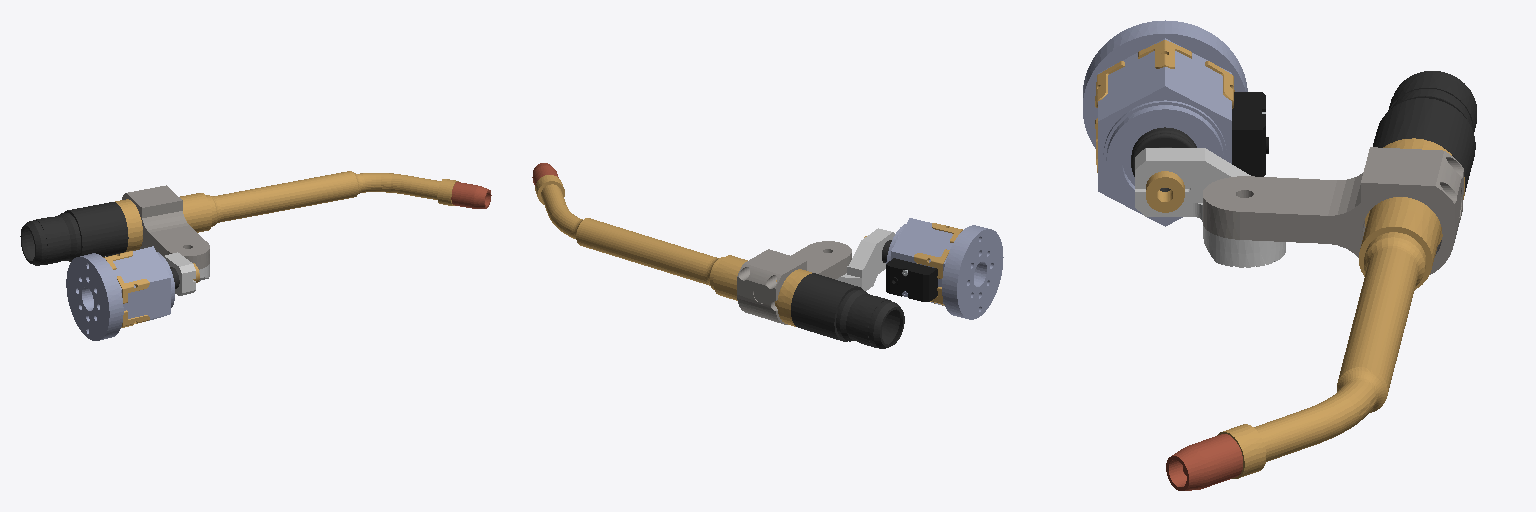
--- Render facts (derived) ---
The picture shows the robot from 3 angles, left to right: view 1: azimuth 30°, elevation 25°; view 2: azimuth 150°, elevation 25°; view 3: azimuth 270°, elevation 25°; orthographic projection.
Model robot with 14 links and 13 joints (6 revolute, 7 fixed), rooted at base_link, posed all joints at 0.
Visible links, largest first — view 1: root, ee_joint_arm, nozzle_tip; view 2: root, ee_joint_arm; view 3: root, ee_joint_arm, nozzle_tip.
Boxes of the visible links, left/top/right/bottom form: root: left=20, top=171, right=458, bottom=327; ee_joint_arm: left=66, top=253, right=123, bottom=340; nozzle_tip: left=451, top=182, right=491, bottom=208; root: left=535, top=175, right=962, bottom=348; ee_joint_arm: left=942, top=225, right=1003, bottom=319; root: left=1095, top=38, right=1476, bottom=478; ee_joint_arm: left=1083, top=20, right=1247, bottom=148; nozzle_tip: left=1166, top=434, right=1242, bottom=490.
Size in the robot's own frame: 0.8374 by 0.3655 by 0.153 metres.
Meshes: 37 distinct files referenced, 28 mesh visuals loaded (28 binary STL); not drawn: 9 (reference not matched to a file when rendering).

The robot description file, URDF, robot "robot":
<robot name="">
	<link name="base_link">
		<inertial>
			<origin rpy="0.00000 -0.00000 0.00000" xyz="0.00000 0.00000 0.00000" />
			<mass value="1.00000" />
			<inertia ixx="0.05644" ixy="0" ixz="0" iyy="0.09146" iyz="0" izz="0.13601" />
		</inertial>
		<visual>
			<origin rpy="0.00000 -0.00000 0.00000" xyz="0.00000 0.00000 0.00000" />
			<geometry>
				<mesh filename="rlbotics/envs/models/robots/abb/irb6600/meshes/irb6640/visual/base_link.stl" scale="1.00000 1.00000 1.00000" />
			</geometry>
			<material name="0">
				<color rgba="0.19608 0.18824 0.18824 1.00000" />
			</material>
		</visual>
		<collision>
			<origin rpy="0.00000 -0.00000 0.00000" xyz="0.00000 0.00000 0.00000" />
			<geometry>
				<mesh filename="rlbotics/envs/models/robots/abb/irb6600/meshes/irb6640/collision/base_link.stl" scale="1.00000 1.00000 1.00000" />
			</geometry>
		</collision>
	</link>
	<link name="link_1">
		<inertial>
			<origin rpy="0.00000 -0.00000 0.00000" xyz="0.00000 0.00000 0.00000" />
			<mass value="1.00000" />
			<inertia ixx="0.12168" ixy="0" ixz="0" iyy="0.14154" iyz="0" izz="0.14985" />
		</inertial>
		<visual>
			<origin rpy="0.00000 -0.00000 0.00000" xyz="0.00000 0.00000 0.00000" />
			<geometry>
				<mesh filename="rlbotics/envs/models/robots/abb/irb6600/meshes/irb6640/visual/link_1.stl" scale="1.00000 1.00000 1.00000" />
			</geometry>
			<material name="1">
				<color rgba="1.00000 0.43000 0.00000 1.00000" />
			</material>
		</visual>
		<collision>
			<origin rpy="0.00000 -0.00000 0.00000" xyz="0.00000 0.00000 0.00000" />
			<geometry>
				<mesh filename="rlbotics/envs/models/robots/abb/irb6600/meshes/irb6640/collision/link_1.stl" scale="1.00000 1.00000 1.00000" />
			</geometry>
		</collision>
	</link>
	<link name="link_2">
		<inertial>
			<origin rpy="0.00000 -0.00000 0.00000" xyz="0.00000 0.00000 0.00000" />
			<mass value="1.00000" />
			<inertia ixx="0.19273" ixy="0" ixz="0" iyy="0.19807" iyz="0" izz="0.04231" />
		</inertial>
		<visual>
			<origin rpy="0.00000 -0.00000 0.00000" xyz="0.00000 0.00000 0.00000" />
			<geometry>
				<mesh filename="rlbotics/envs/models/robots/abb/irb6600/meshes/irb6640/visual/link_2.stl" scale="1.00000 1.00000 1.00000" />
			</geometry>
			<material name="2">
				<color rgba="1.00000 0.43000 0.00000 1.00000" />
			</material>
		</visual>
		<collision>
			<origin rpy="0.00000 -0.00000 0.00000" xyz="0.00000 0.00000 0.00000" />
			<geometry>
				<mesh filename="rlbotics/envs/models/robots/abb/irb6600/meshes/irb6640/collision/link_2.stl" scale="1.00000 1.00000 1.00000" />
			</geometry>
		</collision>
	</link>
	<link name="link_3">
		<inertial>
			<origin rpy="0.00000 -0.00000 0.00000" xyz="0.00000 0.00000 0.00000" />
			<mass value="1.00000" />
			<inertia ixx="0.05700" ixy="0" ixz="0" iyy="0.05147" iyz="0" izz="0.05016" />
		</inertial>
		<visual>
			<origin rpy="0.00000 -0.00000 0.00000" xyz="0.00000 0.00000 0.00000" />
			<geometry>
				<mesh filename="rlbotics/envs/models/robots/abb/irb6600/meshes/irb6640/visual/link_3.stl" scale="1.00000 1.00000 1.00000" />
			</geometry>
			<material name="3">
				<color rgba="1.00000 0.43000 0.00000 1.00000" />
			</material>
		</visual>
		<collision>
			<origin rpy="0.00000 -0.00000 0.00000" xyz="0.00000 0.00000 0.00000" />
			<geometry>
				<mesh filename="rlbotics/envs/models/robots/abb/irb6600/meshes/irb6640/collision/link_3.stl" scale="1.00000 1.00000 1.00000" />
			</geometry>
		</collision>
	</link>
	<link name="link_4">
		<inertial>
			<origin rpy="0.00000 -0.00000 0.00000" xyz="0.00000 0.00000 0.00000" />
			<mass value="1.00000" />
			<inertia ixx="0.01678" ixy="0" ixz="0" iyy="0.27861" iyz="0" izz="0.28296" />
		</inertial>
		<visual>
			<origin rpy="0.00000 -0.00000 0.00000" xyz="0.00000 0.00000 0.00000" />
			<geometry>
				<mesh filename="rlbotics/envs/models/robots/abb/irb6600/meshes/irb6640/visual/link_4.stl" scale="1.00000 1.00000 1.00000" />
			</geometry>
			<material name="4">
				<color rgba="1.00000 0.43000 0.00000 1.00000" />
			</material>
		</visual>
		<collision>
			<origin rpy="0.00000 -0.00000 0.00000" xyz="0.00000 0.00000 0.00000" />
			<geometry>
				<mesh filename="rlbotics/envs/models/robots/abb/irb6600/meshes/irb6640/collision/link_4.stl" scale="1.00000 1.00000 1.00000" />
			</geometry>
		</collision>
	</link>
	<link name="link_5">
		<inertial>
			<origin rpy="0.00000 -0.00000 0.00000" xyz="0.00000 0.00000 0.00000" />
			<mass value="1.00000" />
			<inertia ixx="0.00698" ixy="0" ixz="0" iyy="0.01161" iyz="0" izz="0.01117" />
		</inertial>
		<visual>
			<origin rpy="0.00000 -0.00000 0.00000" xyz="0.00000 0.00000 0.00000" />
			<geometry>
				<mesh filename="rlbotics/envs/models/robots/abb/irb6600/meshes/irb6640/visual/link_5.stl" scale="1.00000 1.00000 1.00000" />
			</geometry>
			<material name="5">
				<color rgba="0.75294 0.75294 0.75294 1.00000" />
			</material>
		</visual>
		<collision>
			<origin rpy="0.00000 -0.00000 0.00000" xyz="0.00000 0.00000 0.00000" />
			<geometry>
				<mesh filename="rlbotics/envs/models/robots/abb/irb6600/meshes/irb6640/collision/link_5.stl" scale="1.00000 1.00000 1.00000" />
			</geometry>
		</collision>
	</link>
	<link name="link_6">
		<inertial>
			<origin rpy="0.00000 -0.00000 0.00000" xyz="0.00000 0.00000 0.00000" />
			<mass value="1.00000" />
			<inertia ixx="0.00719" ixy="0" ixz="0" iyy="0.00381" iyz="0" izz="0.00369" />
		</inertial>
		<visual>
			<origin rpy="0.00000 -0.00000 0.00000" xyz="0.00000 0.00000 0.00000" />
			<geometry>
				<mesh filename="rlbotics/envs/models/robots/abb/irb6600/meshes/irb6640/visual/link_6.stl" scale="1.00000 1.00000 1.00000" />
			</geometry>
			<material name="6">
				<color rgba="0.75294 0.75294 0.75294 1.00000" />
			</material>
		</visual>
		<collision>
			<origin rpy="0.00000 -0.00000 0.00000" xyz="0.00000 0.00000 0.00000" />
			<geometry>
				<mesh filename="rlbotics/envs/models/robots/abb/irb6600/meshes/irb6640/collision/link_6.stl" scale="1.00000 1.00000 1.00000" />
			</geometry>
		</collision>
	</link>
	<link name="tool0">
		<inertial>
			<origin rpy="0.00000 -0.00000 0.00000" xyz="0.00000 0.00000 0.00000" />
			<mass value="1.00000" />
			<inertia ixx="0.00000" ixy="0" ixz="0" iyy="0.00000" iyz="0" izz="0.00000" />
		</inertial>
	</link>
	<link name="link_cylinder">
		<inertial>
			<origin rpy="0.00000 -0.00000 0.00000" xyz="0.00000 0.00000 0.00000" />
			<mass value="1.00000" />
			<inertia ixx="0.03211" ixy="0" ixz="0" iyy="0.04966" iyz="0" izz="0.04355" />
		</inertial>
		<visual>
			<origin rpy="0.00000 -0.00000 0.00000" xyz="0.00000 0.00000 0.00000" />
			<geometry>
				<mesh filename="rlbotics/envs/models/robots/abb/irb6600/meshes/irb6640/visual/cylinder.stl" scale="1.00000 1.00000 1.00000" />
			</geometry>
			<material name="7">
				<color rgba="1.00000 0.43000 0.00000 1.00000" />
			</material>
		</visual>
		<collision>
			<origin rpy="0.00000 -0.00000 0.00000" xyz="0.00000 0.00000 0.00000" />
			<geometry>
				<mesh filename="rlbotics/envs/models/robots/abb/irb6600/meshes/irb6640/collision/cylinder.stl" scale="1.00000 1.00000 1.00000" />
			</geometry>
		</collision>
	</link>
	<link name="link_piston">
		<inertial>
			<origin rpy="0.00000 -0.00000 0.00000" xyz="0.00000 0.00000 0.00000" />
			<mass value="1.00000" />
			<inertia ixx="0.00136" ixy="0" ixz="0" iyy="0.03609" iyz="0" izz="0.03664" />
		</inertial>
		<visual>
			<origin rpy="0.00000 -0.00000 0.00000" xyz="0.00000 0.00000 0.00000" />
			<geometry>
				<mesh filename="rlbotics/envs/models/robots/abb/irb6600/meshes/irb6640/visual/piston.stl" scale="1.00000 1.00000 1.00000" />
			</geometry>
			<material name="8">
				<color rgba="0.75294 0.75294 0.75294 1.00000" />
			</material>
		</visual>
		<collision>
			<origin rpy="0.00000 -0.00000 0.00000" xyz="0.00000 0.00000 0.00000" />
			<geometry>
				<mesh filename="rlbotics/envs/models/robots/abb/irb6600/meshes/irb6640/collision/piston.stl" scale="1.00000 1.00000 1.00000" />
			</geometry>
		</collision>
	</link>
	<link name="base">
		<inertial>
			<origin rpy="0.00000 -0.00000 0.00000" xyz="0.00000 0.00000 0.00000" />
			<mass value="1.00000" />
			<inertia ixx="0.00000" ixy="0" ixz="0" iyy="0.00000" iyz="0" izz="0.00000" />
		</inertial>
	</link>
	<link name="root">
		<inertial>
			<origin rpy="0.00000 -0.00000 0.00000" xyz="-0.01448 -0.00427 0.02204" />
			<mass value="10.00000" />
			<inertia ixx="0.62536" ixy="0" ixz="0" iyy="0.53801" iyz="0" izz="0.12460" />
		</inertial>
		<visual>
			<origin rpy="0.00000 -0.00000 0.00000" xyz="-0.02792 -0.00816 0.04271" />
			<geometry>
				<mesh filename="rlbotics/envs/models/end_effectors/welding/welding_torch/meshes/stl/Body1.stl" scale="0.01913 0.01913 0.01913" />
			</geometry>
			<material name="9">
				<color rgba="0.80000 0.80000 0.80000 1.00000" />
			</material>
		</visual>
		<visual>
			<origin rpy="0.00000 -0.00000 0.00000" xyz="-0.02792 -0.00816 0.04271" />
			<geometry>
				<mesh filename="rlbotics/envs/models/end_effectors/welding/welding_torch/meshes/stl/Body10.stl" scale="0.01913 0.01913 0.01913" />
			</geometry>
			<material name="10">
				<color rgba="0.80000 0.64627 0.39843 1.00000" />
			</material>
		</visual>
		<visual>
			<origin rpy="0.00000 -0.00000 0.00000" xyz="-0.02792 -0.00816 0.04271" />
			<geometry>
				<mesh filename="rlbotics/envs/models/end_effectors/welding/welding_torch/meshes/stl/Body11.stl" scale="0.01913 0.01913 0.01913" />
			</geometry>
			<material name="11">
				<color rgba="0.80000 0.64627 0.39843 1.00000" />
			</material>
		</visual>
		<visual>
			<origin rpy="0.00000 -0.00000 0.00000" xyz="-0.02792 -0.00816 0.04271" />
			<geometry>
				<mesh filename="rlbotics/envs/models/end_effectors/welding/welding_torch/meshes/stl/Body12.stl" scale="0.01913 0.01913 0.01913" />
			</geometry>
			<material name="12">
				<color rgba="0.63373 0.65569 0.74667 1.00000" />
			</material>
		</visual>
		<visual>
			<origin rpy="0.00000 -0.00000 0.00000" xyz="-0.02792 -0.00816 0.04271" />
			<geometry>
				<mesh filename="rlbotics/envs/models/end_effectors/welding/welding_torch/meshes/stl/Body13.stl" scale="0.01913 0.01913 0.01913" />
			</geometry>
			<material name="13">
				<color rgba="0.71843 0.73412 0.74353 1.00000" />
			</material>
		</visual>
		<visual>
			<origin rpy="0.00000 -0.00000 0.00000" xyz="-0.02792 -0.00816 0.04271" />
			<geometry>
				<mesh filename="rlbotics/envs/models/end_effectors/welding/welding_torch/meshes/stl/Body14.stl" scale="0.01913 0.01913 0.01913" />
			</geometry>
			<material name="14">
				<color rgba="0.63373 0.65569 0.74667 1.00000" />
			</material>
		</visual>
		<visual>
			<origin rpy="0.00000 -0.00000 0.00000" xyz="-0.02792 -0.00816 0.04271" />
			<geometry>
				<mesh filename="rlbotics/envs/models/end_effectors/welding/welding_torch/meshes/stl/Body15.stl" scale="0.01913 0.01913 0.01913" />
			</geometry>
			<material name="15">
				<color rgba="0.80000 0.64627 0.39843 1.00000" />
			</material>
		</visual>
		<visual>
			<origin rpy="0.00000 -0.00000 0.00000" xyz="-0.02792 -0.00816 0.04271" />
			<geometry>
				<mesh filename="rlbotics/envs/models/end_effectors/welding/welding_torch/meshes/stl/Body16.stl" scale="0.01913 0.01913 0.01913" />
			</geometry>
			<material name="16">
				<color rgba="0.63373 0.65569 0.74667 1.00000" />
			</material>
		</visual>
		<visual>
			<origin rpy="0.00000 -0.00000 0.00000" xyz="-0.02792 -0.00816 0.04271" />
			<geometry>
				<mesh filename="rlbotics/envs/models/end_effectors/welding/welding_torch/meshes/stl/Body17.stl" scale="0.01913 0.01913 0.01913" />
			</geometry>
			<material name="17">
				<color rgba="0.63373 0.65569 0.74667 1.00000" />
			</material>
		</visual>
		<visual>
			<origin rpy="0.00000 -0.00000 0.00000" xyz="-0.02792 -0.00816 0.04271" />
			<geometry>
				<mesh filename="rlbotics/envs/models/end_effectors/welding/welding_torch/meshes/stl/Body18.stl" scale="0.01913 0.01913 0.01913" />
			</geometry>
			<material name="18">
				<color rgba="0.63373 0.65569 0.74667 1.00000" />
			</material>
		</visual>
		<visual>
			<origin rpy="0.00000 -0.00000 0.00000" xyz="-0.02792 -0.00816 0.04271" />
			<geometry>
				<mesh filename="rlbotics/envs/models/end_effectors/welding/welding_torch/meshes/stl/Body19.stl" scale="0.01913 0.01913 0.01913" />
			</geometry>
			<material name="19">
				<color rgba="0.63373 0.65569 0.74667 1.00000" />
			</material>
		</visual>
		<visual>
			<origin rpy="0.00000 -0.00000 0.00000" xyz="-0.02792 -0.00816 0.04271" />
			<geometry>
				<mesh filename="rlbotics/envs/models/end_effectors/welding/welding_torch/meshes/stl/Body2.stl" scale="0.01913 0.01913 0.01913" />
			</geometry>
			<material name="20">
				<color rgba="0.54902 0.48627 0.42353 1.00000" />
			</material>
		</visual>
		<visual>
			<origin rpy="0.00000 -0.00000 0.00000" xyz="-0.02792 -0.00816 0.04271" />
			<geometry>
				<mesh filename="rlbotics/envs/models/end_effectors/welding/welding_torch/meshes/stl/Body20.stl" scale="0.01913 0.01913 0.01913" />
			</geometry>
			<material name="21">
				<color rgba="0.63373 0.65569 0.74667 1.00000" />
			</material>
		</visual>
		<visual>
			<origin rpy="0.00000 -0.00000 0.00000" xyz="-0.02792 -0.00816 0.04271" />
			<geometry>
				<mesh filename="rlbotics/envs/models/end_effectors/welding/welding_torch/meshes/stl/Body21.stl" scale="0.01913 0.01913 0.01913" />
			</geometry>
			<material name="22">
				<color rgba="0.80000 0.64627 0.39843 1.00000" />
			</material>
		</visual>
		<visual>
			<origin rpy="0.00000 -0.00000 0.00000" xyz="-0.02792 -0.00816 0.04271" />
			<geometry>
				<mesh filename="rlbotics/envs/models/end_effectors/welding/welding_torch/meshes/stl/Body23.stl" scale="0.01913 0.01913 0.01913" />
			</geometry>
			<material name="23">
				<color rgba="0.23843 0.23843 0.23843 1.00000" />
			</material>
		</visual>
		<visual>
			<origin rpy="0.00000 -0.00000 0.00000" xyz="-0.02792 -0.00816 0.04271" />
			<geometry>
				<mesh filename="rlbotics/envs/models/end_effectors/welding/welding_torch/meshes/stl/Body24.stl" scale="0.01913 0.01913 0.01913" />
			</geometry>
			<material name="24">
				<color rgba="0.80000 0.64627 0.39843 1.00000" />
			</material>
		</visual>
		<visual>
			<origin rpy="0.00000 -0.00000 0.00000" xyz="-0.02792 -0.00816 0.04271" />
			<geometry>
				<mesh filename="rlbotics/envs/models/end_effectors/welding/welding_torch/meshes/stl/Body25.stl" scale="0.01913 0.01913 0.01913" />
			</geometry>
			<material name="25">
				<color rgba="0.23843 0.23843 0.23843 1.00000" />
			</material>
		</visual>
		<visual>
			<origin rpy="0.00000 -0.00000 0.00000" xyz="-0.02792 -0.00816 0.04271" />
			<geometry>
				<mesh filename="rlbotics/envs/models/end_effectors/welding/welding_torch/meshes/stl/Body26.stl" scale="0.01913 0.01913 0.01913" />
			</geometry>
			<material name="26">
				<color rgba="0.62118 0.55843 0.51137 1.00000" />
			</material>
		</visual>
		<visual>
			<origin rpy="0.00000 -0.00000 0.00000" xyz="-0.02792 -0.00816 0.04271" />
			<geometry>
				<mesh filename="rlbotics/envs/models/end_effectors/welding/welding_torch/meshes/stl/Body27.stl" scale="0.01913 0.01913 0.01913" />
			</geometry>
			<material name="27">
				<color rgba="0.67137 0.37333 0.29490 1.00000" />
			</material>
		</visual>
		<visual>
			<origin rpy="0.00000 -0.00000 0.00000" xyz="-0.02792 -0.00816 0.04271" />
			<geometry>
				<mesh filename="rlbotics/envs/models/end_effectors/welding/welding_torch/meshes/stl/Body3.stl" scale="0.01913 0.01913 0.01913" />
			</geometry>
			<material name="28">
				<color rgba="0.62118 0.60549 0.58980 1.00000" />
			</material>
		</visual>
		<visual>
			<origin rpy="0.00000 -0.00000 0.00000" xyz="-0.02792 -0.00816 0.04271" />
			<geometry>
				<mesh filename="rlbotics/envs/models/end_effectors/welding/welding_torch/meshes/stl/Body4.stl" scale="0.01913 0.01913 0.01913" />
			</geometry>
			<material name="29">
				<color rgba="0.80000 0.62431 0.52706 1.00000" />
			</material>
		</visual>
		<visual>
			<origin rpy="0.00000 -0.00000 0.00000" xyz="-0.02792 -0.00816 0.04271" />
			<geometry>
				<mesh filename="rlbotics/envs/models/end_effectors/welding/welding_torch/meshes/stl/Body5.stl" scale="0.01913 0.01913 0.01913" />
			</geometry>
			<material name="30">
				<color rgba="0.63373 0.65569 0.74667 1.00000" />
			</material>
		</visual>
		<visual>
			<origin rpy="0.00000 -0.00000 0.00000" xyz="-0.02792 -0.00816 0.04271" />
			<geometry>
				<mesh filename="rlbotics/envs/models/end_effectors/welding/welding_torch/meshes/stl/Body6.stl" scale="0.01913 0.01913 0.01913" />
			</geometry>
			<material name="31">
				<color rgba="0.16000 0.16000 0.16000 1.00000" />
			</material>
		</visual>
		<visual>
			<origin rpy="0.00000 -0.00000 0.00000" xyz="-0.02792 -0.00816 0.04271" />
			<geometry>
				<mesh filename="rlbotics/envs/models/end_effectors/welding/welding_torch/meshes/stl/Body7.stl" scale="0.01913 0.01913 0.01913" />
			</geometry>
			<material name="32">
				<color rgba="0.80000 0.64627 0.39843 1.00000" />
			</material>
		</visual>
		<visual>
			<origin rpy="0.00000 -0.00000 0.00000" xyz="-0.02792 -0.00816 0.04271" />
			<geometry>
				<mesh filename="rlbotics/envs/models/end_effectors/welding/welding_torch/meshes/stl/Body8.stl" scale="0.01913 0.01913 0.01913" />
			</geometry>
			<material name="33">
				<color rgba="0.80000 0.64627 0.39843 1.00000" />
			</material>
		</visual>
		<visual>
			<origin rpy="0.00000 -0.00000 0.00000" xyz="-0.02792 -0.00816 0.04271" />
			<geometry>
				<mesh filename="rlbotics/envs/models/end_effectors/welding/welding_torch/meshes/stl/Body9.stl" scale="0.01913 0.01913 0.01913" />
			</geometry>
			<material name="34">
				<color rgba="0.80000 0.64627 0.39843 1.00000" />
			</material>
		</visual>
		<collision>
			<origin rpy="0.00000 -0.00000 0.00000" xyz="-0.02694 -0.00899 0.04304" />
			<geometry>
				<mesh filename="rlbotics/envs/models/end_effectors/welding/welding_torch/meshes/stl/Body1.001.stl" scale="1.91308 1.91308 1.91308" />
			</geometry>
		</collision>
		<collision>
			<origin rpy="0.00000 -0.00000 0.00000" xyz="-0.03031 -0.00834 0.04250" />
			<geometry>
				<mesh filename="rlbotics/envs/models/end_effectors/welding/welding_torch/meshes/stl/Body23.001.stl" scale="1.91308 1.91308 1.91308" />
			</geometry>
		</collision>
		<collision>
			<origin rpy="0.00000 -0.00000 0.00000" xyz="-0.02830 -0.00808 0.04410" />
			<geometry>
				<mesh filename="rlbotics/envs/models/end_effectors/welding/welding_torch/meshes/stl/Body24.001.stl" scale="1.91308 1.91308 1.91308" />
			</geometry>
		</collision>
		<collision>
			<origin rpy="0.00000 -0.00000 0.00000" xyz="-0.02798 -0.00886 0.05092" />
			<geometry>
				<mesh filename="rlbotics/envs/models/end_effectors/welding/welding_torch/meshes/stl/Body25.001.stl" scale="1.91308 1.91308 1.91308" />
			</geometry>
		</collision>
		<collision>
			<origin rpy="0.00000 -0.00000 0.00000" xyz="-0.02695 -0.00714 0.04028" />
			<geometry>
				<mesh filename="rlbotics/envs/models/end_effectors/welding/welding_torch/meshes/stl/Body3.001.stl" scale="1.91308 1.91308 1.91308" />
			</geometry>
		</collision>
		<collision>
			<origin rpy="0.00000 -0.00000 0.00000" xyz="-0.02659 -0.00839 0.04212" />
			<geometry>
				<mesh filename="rlbotics/envs/models/end_effectors/welding/welding_torch/meshes/stl/Body5.001.stl" scale="1.91308 1.91308 1.91308" />
			</geometry>
		</collision>
		<collision>
			<origin rpy="0.00000 -0.00000 0.00000" xyz="-0.02771 -0.00796 0.04287" />
			<geometry>
				<mesh filename="rlbotics/envs/models/end_effectors/welding/welding_torch/meshes/stl/Body6.001.stl" scale="1.91308 1.91308 1.91308" />
			</geometry>
		</collision>
	</link>
	<link name="ee_joint_arm">
		<inertial>
			<origin rpy="0.00000 -0.00000 0.00000" xyz="-0.01458 -0.00585 0.05244" />
			<mass value="2.00000" />
			<inertia ixx="0.00442" ixy="0" ixz="0" iyy="0.00442" iyz="0" izz="0.00843" />
		</inertial>
		<visual>
			<origin rpy="0.00000 -0.00000 0.00000" xyz="-0.02797 -0.01121 0.09982" />
			<geometry>
				<mesh filename="rlbotics/envs/models/end_effectors/welding/welding_torch/meshes/stl/Body22.stl" scale="0.01913 0.01913 0.01913" />
			</geometry>
			<material name="35">
				<color rgba="0.63373 0.65569 0.74667 1.00000" />
			</material>
		</visual>
		<collision>
			<origin rpy="0.00000 -0.00000 0.00000" xyz="-0.02788 -0.01119 0.10032" />
			<geometry>
				<mesh filename="rlbotics/envs/models/end_effectors/welding/welding_torch/meshes/stl/Body22.001.stl" scale="1.91308 1.91308 1.91308" />
			</geometry>
		</collision>
	</link>
	<link name="nozzle_tip">
		<inertial>
			<origin rpy="0.00000 -0.00000 0.00000" xyz="-0.01570 -0.30904 -0.22158" />
			<mass value="2.00000" />
			<inertia ixx="0.00381" ixy="0" ixz="0" iyy="0.00232" iyz="0" izz="0.00228" />
		</inertial>
		<visual>
			<origin rpy="-0.92502 0.00000 0.00000" xyz="-0.02985 -0.59008 -0.41691" />
			<geometry>
				<mesh filename="rlbotics/envs/models/end_effectors/welding/welding_torch/meshes/stl/Body28.stl" scale="0.01913 0.01913 0.01913" />
			</geometry>
			<material name="36">
				<color rgba="0.67137 0.37333 0.29490 1.00000" />
			</material>
		</visual>
		<collision>
			<origin rpy="-0.92502 0.00000 0.00000" xyz="-0.03004 -0.59122 -0.42390" />
			<geometry>
				<mesh filename="rlbotics/envs/models/end_effectors/welding/welding_torch/meshes/stl/Body28.001.stl" scale="1.91308 1.91308 1.91308" />
			</geometry>
		</collision>
	</link>
	<joint name="joint_1" type="revolute">
		<parent link="base_link" />
		<child link="link_1" />
		<dynamics damping="0.0" friction="0.0" />
		<origin rpy="0.00000 -0.00000 0.00000" xyz="0.00000 0.00000 0.22700" />
		<axis xyz="0.00000 0.00000 1.00000" />
	<limit effort="0.0" lower="-2.967" upper="2.967" velocity="1.7453" /></joint>
	<joint name="joint_2" type="revolute">
		<parent link="link_1" />
		<child link="link_2" />
		<dynamics damping="0.0" friction="0.0" />
		<origin rpy="0.00000 -0.00000 0.00000" xyz="0.32200 0.03000 0.55100" />
		<axis xyz="0.00000 1.00000 0.00000" />
	<limit effort="0.0" lower="-1.134" upper="1.4855" velocity="1.5707" /></joint>
	<joint name="joint_3" type="revolute">
		<parent link="link_2" />
		<child link="link_3" />
		<dynamics damping="0.0" friction="0.0" />
		<origin rpy="0.00000 -0.00000 0.00000" xyz="0.00000 -0.20000 1.07000" />
		<axis xyz="0.00000 1.00000 0.00000" />
	<limit effort="0.0" lower="-3.142" upper="1.222" velocity="1.5707" /></joint>
	<joint name="joint_4" type="revolute">
		<parent link="link_3" />
		<child link="link_4" />
		<dynamics damping="0.0" friction="0.0" />
		<origin rpy="0.00000 -0.00000 0.00000" xyz="-0.27500 0.18100 0.20000" />
		<axis xyz="1.00000 0.00000 0.00000" />
	<limit effort="0.0" lower="-5.236" upper="5.236" velocity="2.9671" /></joint>
	<joint name="joint_5" type="revolute">
		<parent link="link_4" />
		<child link="link_5" />
		<dynamics damping="0.0" friction="0.0" />
		<origin rpy="0.00000 -0.00000 0.00000" xyz="1.67000 0.00000 0.00000" />
		<axis xyz="0.00000 1.00000 0.00000" />
	<limit effort="0.0" lower="-2.094" upper="2.094" velocity="2.4435" /></joint>
	<joint name="joint_6" type="revolute">
		<parent link="link_5" />
		<child link="link_6" />
		<dynamics damping="0.0" friction="0.0" />
		<origin rpy="0.00000 -0.00000 0.00000" xyz="0.15300 0.00000 0.00000" />
		<axis xyz="1.00000 0.00000 0.00000" />
	<limit effort="0.0" lower="-6.283" upper="6.283" velocity="3.3161" /></joint>
	<joint name="joint_6-tool0" type="fixed">
		<parent link="link_6" />
		<child link="tool0" />
		<dynamics damping="1.0" friction="0.0001" />
		<origin rpy="0.00000 1.57080 -0.00000" xyz="0.05500 0.00000 0.00000" />
		<axis xyz="0.00000 0.00000 0.00000" />
	</joint>
	<joint name="joint_cylinder" type="fixed">
		<parent link="link_1" />
		<child link="link_cylinder" />
		<dynamics damping="1.0" friction="0.0001" />
		<origin rpy="0.00000 -0.17000 0.00000" xyz="-0.36500 -0.18950 0.40500" />
		<axis xyz="0.00000 0.00000 0.00000" />
	</joint>
	<joint name="joint_piston" type="fixed">
		<parent link="link_cylinder" />
		<child link="link_piston" />
		<dynamics damping="1.0" friction="0.0001" />
		<origin rpy="0.00000 -0.00000 0.00000" xyz="0.47500 0.00000 0.00000" />
		<axis xyz="0.00000 0.00000 0.00000" />
	</joint>
	<joint name="base_link-base" type="fixed">
		<parent link="base_link" />
		<child link="base" />
		<dynamics damping="1.0" friction="0.0001" />
		<origin rpy="0.00000 -0.00000 0.00000" xyz="0.00000 0.00000 0.00000" />
		<axis xyz="0.00000 0.00000 0.00000" />
	</joint>
	<joint name="joint_dummy1" type="fixed">
		<parent link="link_6" />
		<child link="root" />
		<dynamics damping="1.0" friction="0.0001" />
		<origin rpy="0.00000 1.57080 0.00000" xyz="0.00000 0.00000 0.00000" />
		<axis xyz="0.00000 0.00000 1.00000" />
	</joint>
	<joint name="ee_joint_arm" type="fixed">
		<parent link="root" />
		<child link="ee_joint_arm" />
		<dynamics damping="1.0" friction="0.0001" />
		<origin rpy="0.00000 -0.00000 0.00000" xyz="0.00005 0.00304 -0.05711" />
		<axis xyz="0.00000 0.00000 0.00000" />
	</joint>
	<joint name="nozzle_tip" type="fixed">
		<parent link="root" />
		<child link="nozzle_tip" />
		<dynamics damping="1.0" friction="0.0001" />
		<origin rpy="0.92502 -0.00000 0.00000" xyz="0.00193 0.01399 0.76487" />
		<axis xyz="0.00000 0.00000 0.00000" />
	</joint>
</robot>
